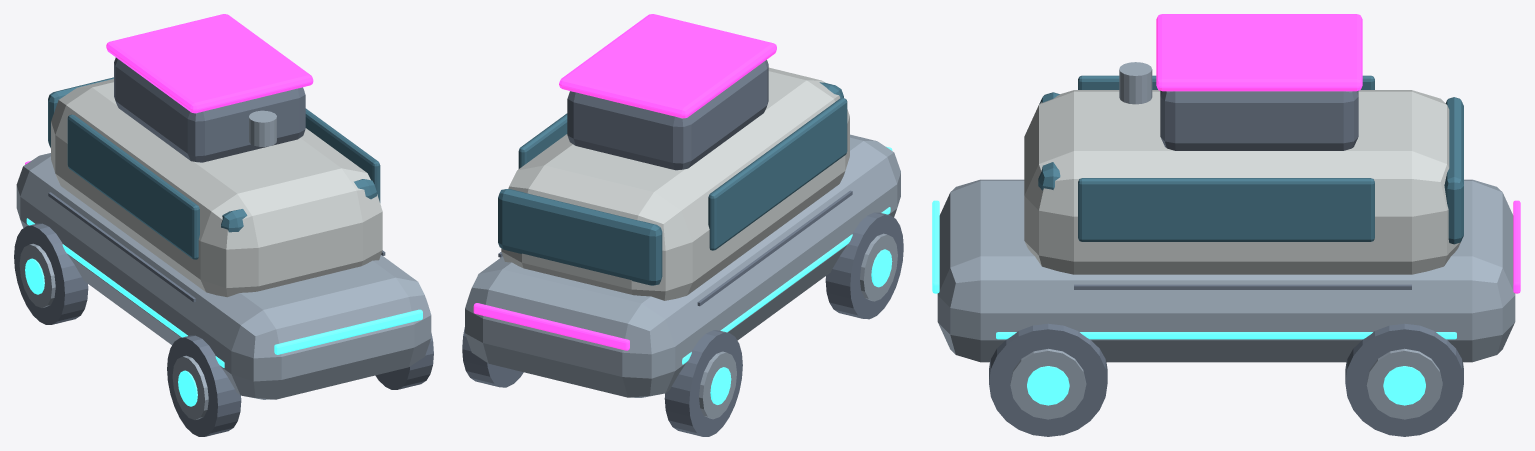
Rendered from electric-pod.glb.
3 renders of one model, left to right at view 1: azimuth 30°, elevation 25°; view 2: azimuth 150°, elevation 25°; view 3: azimuth 270°, elevation 25°, orthographic. The views are drawn at different scales.
Parts seen in each view (by area): view 1: Autonomous pod chassis, Passenger shell, Door seam, Light bar.001, Panoramic front glass, Cyan sill; view 2: Autonomous pod chassis, Passenger shell, Door seam, Panoramic front glass, Light bar.001, Cyan sill; view 3: Autonomous pod chassis, Passenger shell, Door seam, Panoramic front glass, Light bar.001, Cyan sill.
Boxes of the visible parts, x1=… form: Autonomous pod chassis: x1=16, y1=110, x2=431, y2=419; Passenger shell: x1=51, y1=79, x2=382, y2=297; Door seam: x1=14, y1=57, x2=433, y2=436; Light bar.001: x1=25, y1=14, x2=313, y2=164; Panoramic front glass: x1=48, y1=77, x2=380, y2=259; Cyan sill: x1=25, y1=218, x2=422, y2=406; Autonomous pod chassis: x1=465, y1=134, x2=900, y2=419; Passenger shell: x1=501, y1=67, x2=849, y2=300; Door seam: x1=462, y1=60, x2=903, y2=436; Panoramic front glass: x1=498, y1=82, x2=847, y2=285; Light bar.001: x1=473, y1=14, x2=776, y2=350; Cyan sill: x1=682, y1=146, x2=892, y2=404; Autonomous pod chassis: x1=937, y1=62, x2=1515, y2=419; Passenger shell: x1=1024, y1=90, x2=1460, y2=274; Door seam: x1=989, y1=90, x2=1463, y2=436; Panoramic front glass: x1=1038, y1=75, x2=1463, y2=244; Light bar.001: x1=1156, y1=14, x2=1520, y2=293; Cyan sill: x1=932, y1=200, x2=1456, y2=405.
Bounding box in the file's own units: 1.85 × 2.2 × 3.57.
